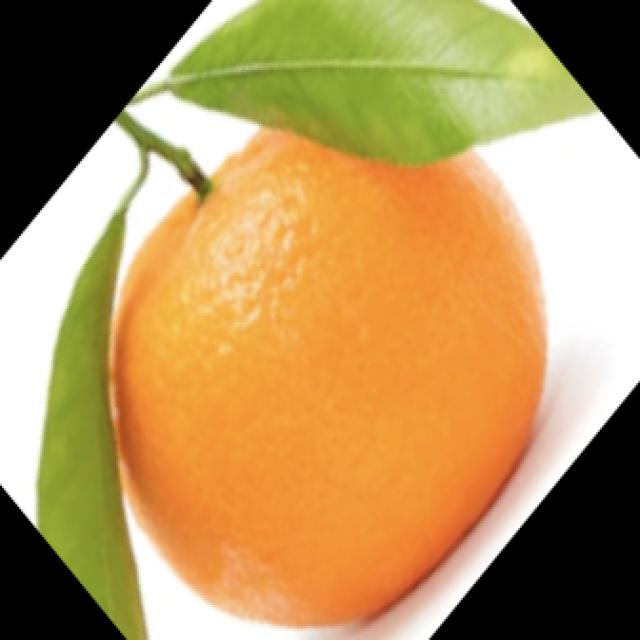orange: (107, 96, 579, 640)
